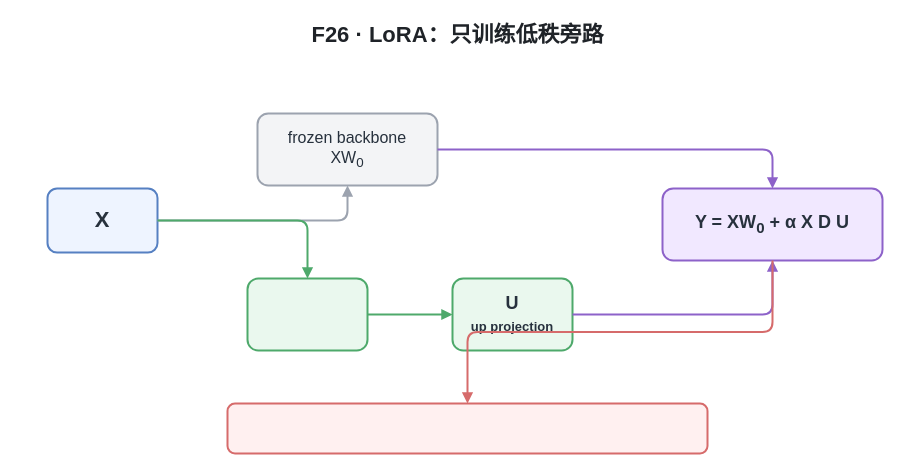
Some shapes in this 914 by 471 pixel diagram are drawn without their labels. The centre of each missing label's shape, as x and y in pixels:
"Backward: ΔD, ΔU are updated; W 0 stays frozen" goes at (x=467, y=428).
"D down projection" goes at (x=307, y=314).
